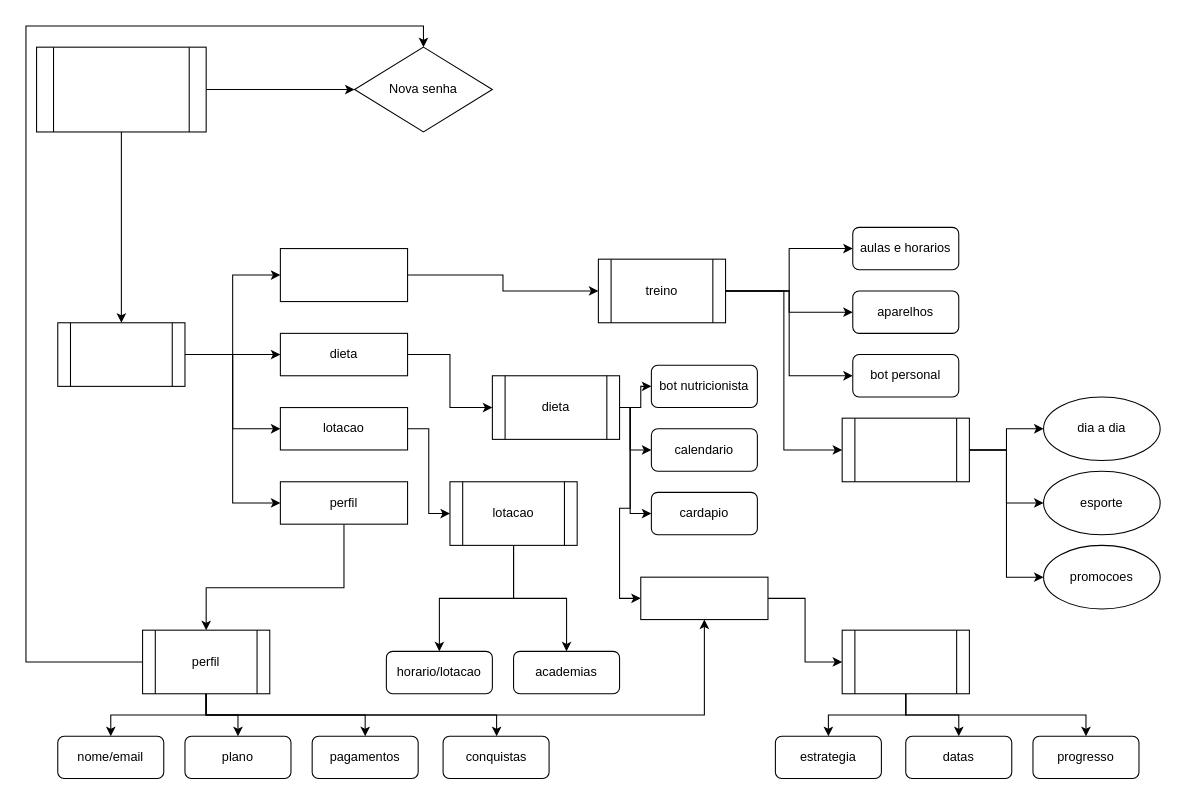
Some shapes in this 1179 by 797 pixel diagram are drawn without their labels. The centre of each missing label's shape, as x and y in pixels:
"blog" belongs at point (905, 449).
"Home" belongs at point (121, 354).
"Login" belongs at point (121, 89).
"meta" belongs at point (704, 598).
"Metas" belongs at point (905, 661).
"Treinos" belongs at point (343, 275).
